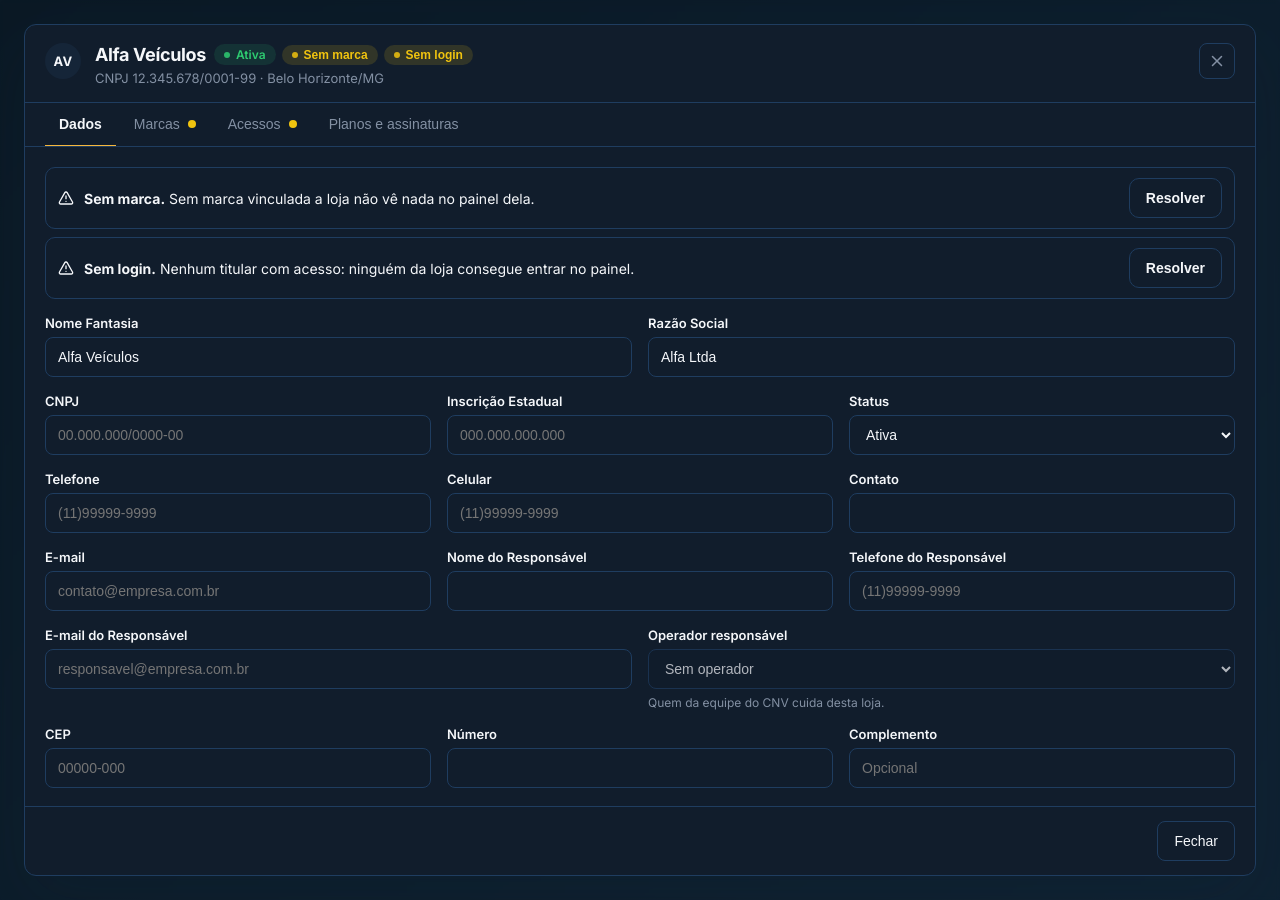
Test: ficha da concessionária › vendedor só consulta: sem Funcionalidades, Cobranças e Estoque, e os planos sem botão de ativar
This screenshot has width=1280, height=900.
Click the tab "Planos e assinaturas" at (394, 125), box left=315, top=103, right=473, bottom=147
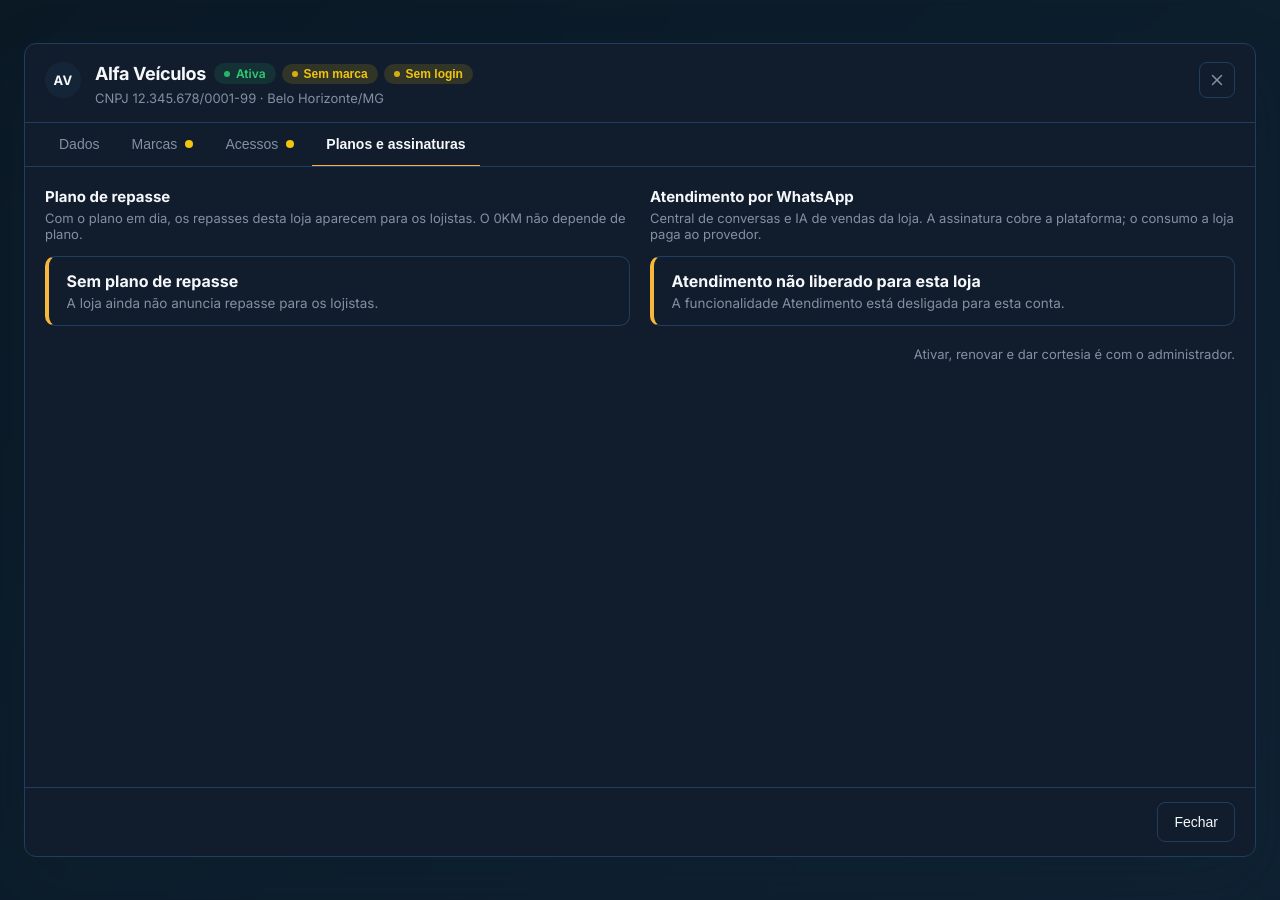
Expected: the text "Sem plano de repasse" is shown, left=67, top=271, right=238, bottom=291
Click the tab "Acessos" at (260, 145), box left=211, top=123, right=308, bottom=167
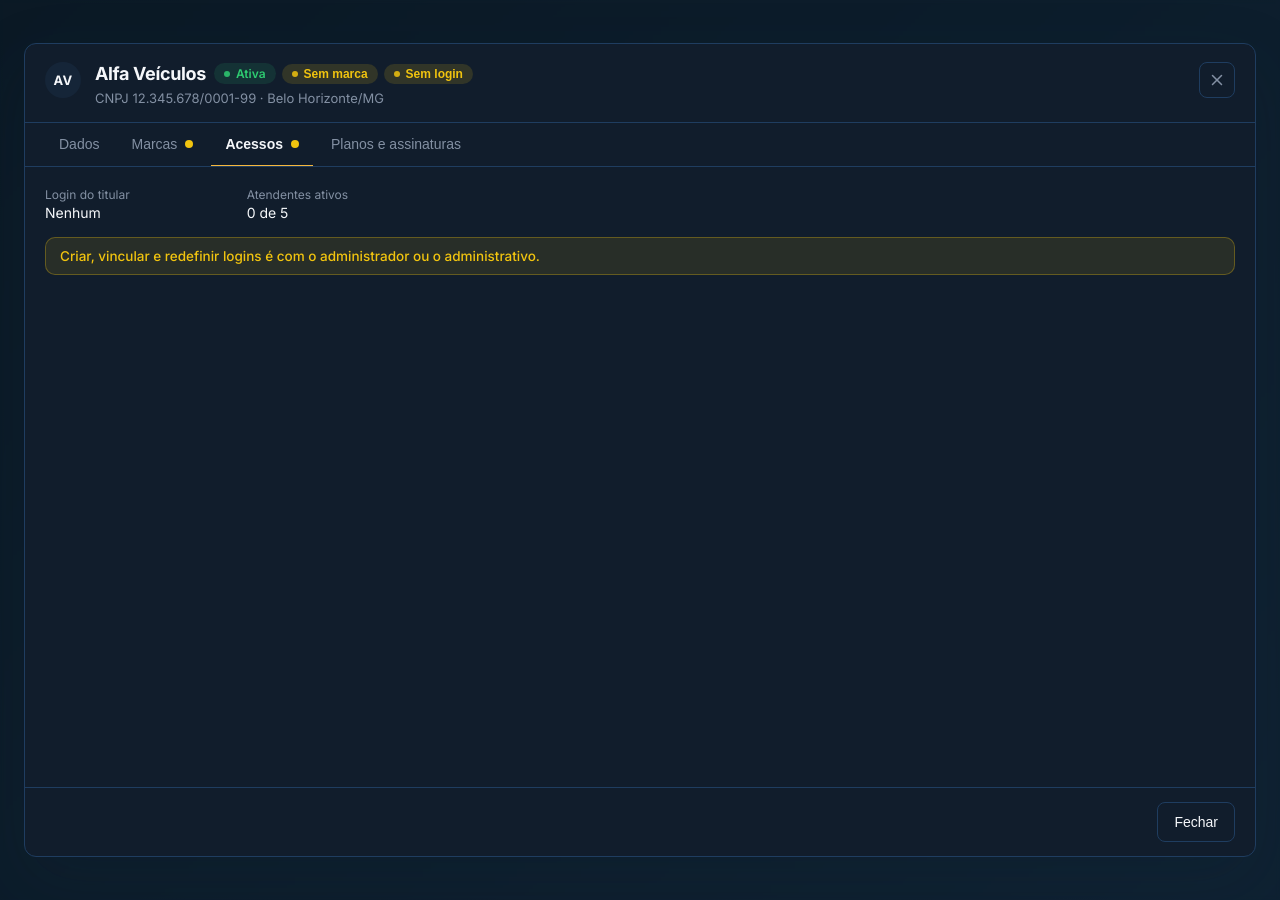
Expected: the text "Criar, vincular e redefinir logins é com o administrador ou o administrativo." is shown, left=45, top=237, right=1235, bottom=275
